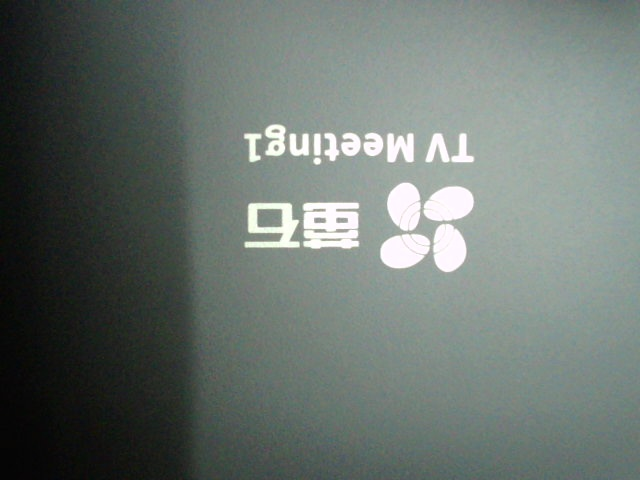BA_Yingshi: (240, 122, 478, 282)
